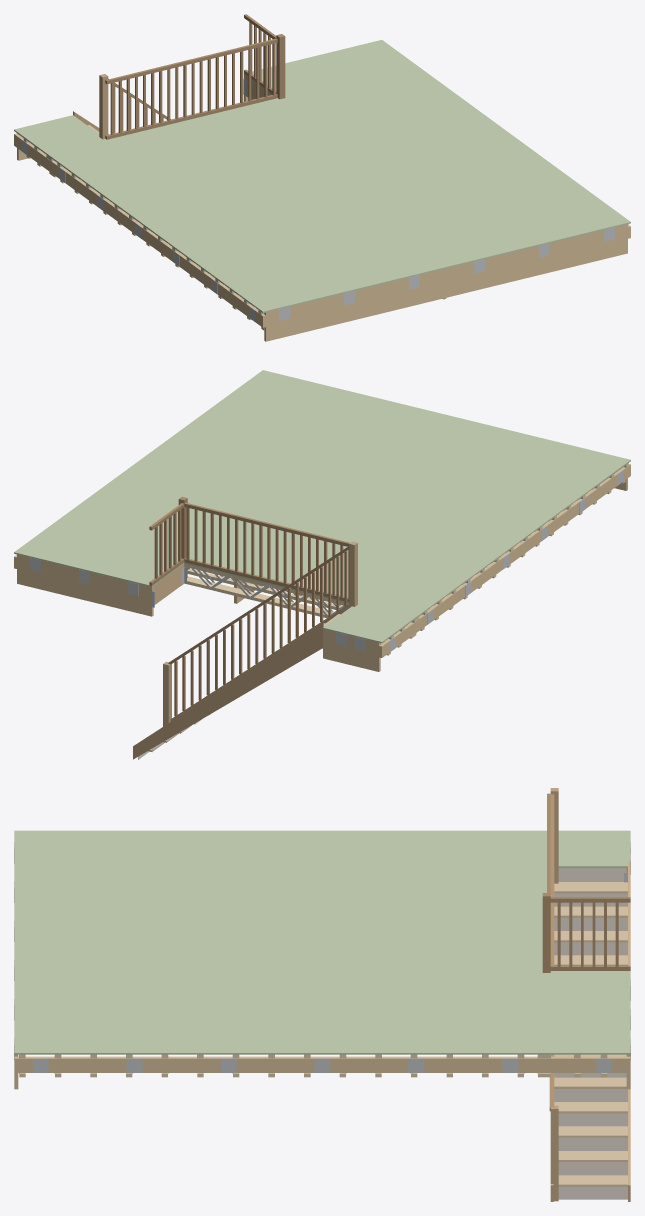
The model's file is stage-3.glb.
3 renders of one model, top to bottom at view 1: azimuth 30°, elevation 25°; view 2: azimuth 150°, elevation 25°; view 3: azimuth 270°, elevation 25°, orthographic. The views are drawn at different scales.
Visible parts, largest first — view 1: Geom3D (×5); view 2: Geom3D (×8); view 3: Geom3D (×8).
Part boxes in pixels (<box>): Geom3D (×5): <box>14,14,630,341</box>; Geom3D (×8): <box>14,370,630,759</box>; Geom3D (×8): <box>14,788,630,1201</box>.
Bounding box in the file's own units: 5.92 × 3.69 × 6.93.
